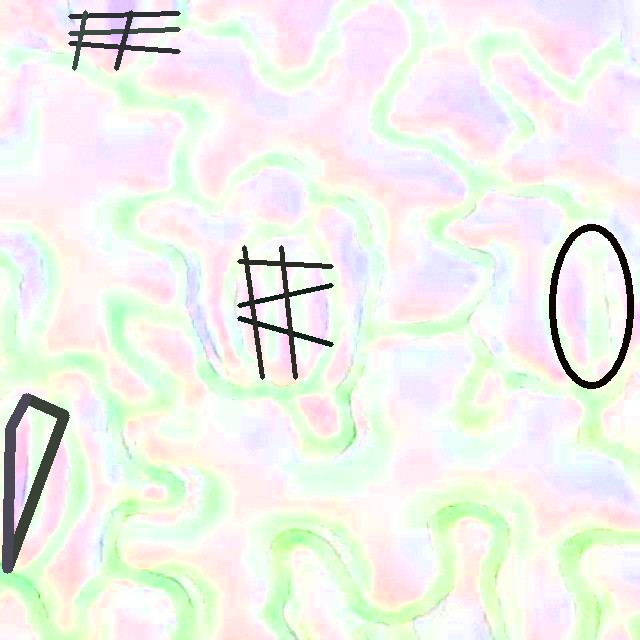open: (548, 223, 634, 388), (237, 245, 333, 379), (6, 393, 68, 573), (68, 11, 180, 69)
